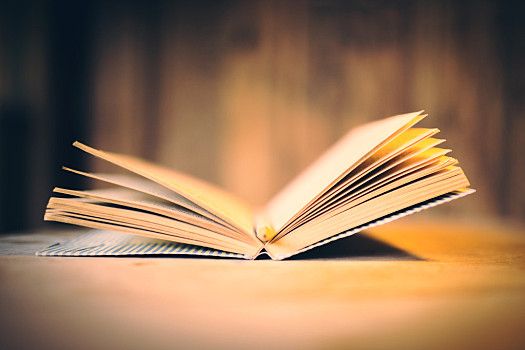book: (39, 108, 476, 262)
